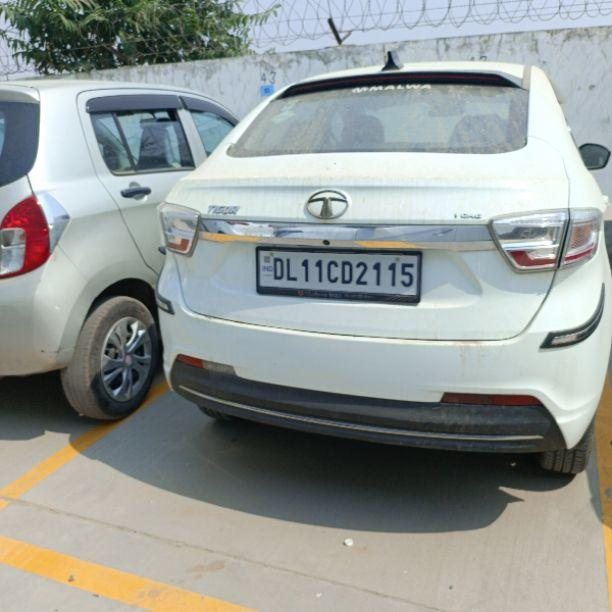license_plate: (254, 245, 422, 303)
